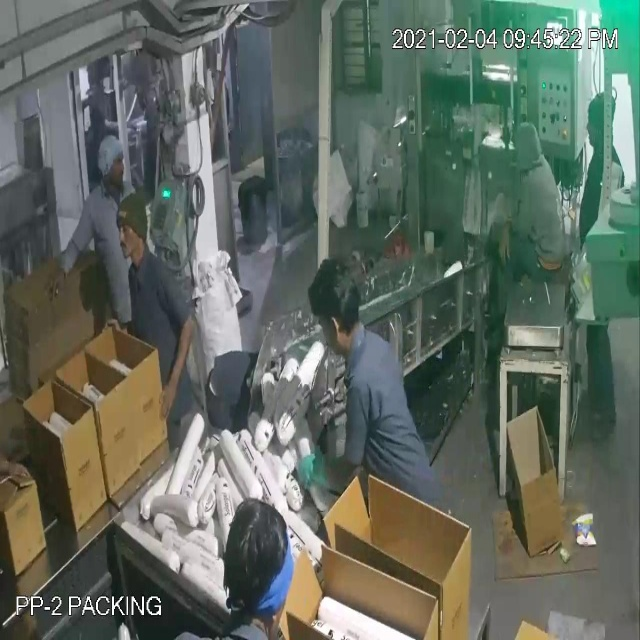Guantes: (291, 422, 367, 496)
Sin_guantes: (158, 289, 204, 427), (42, 231, 97, 315), (0, 422, 41, 499), (489, 200, 520, 270)
